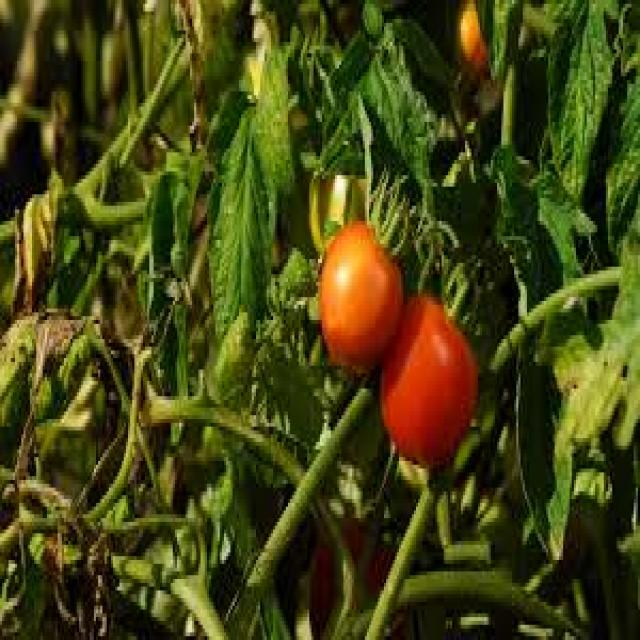level 5: (314, 215, 408, 378)
level 6: (381, 286, 481, 473)
